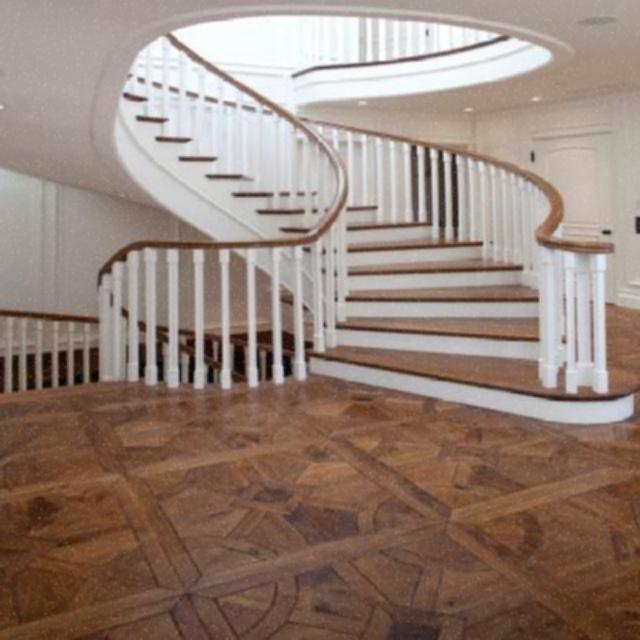stair: (63, 46, 634, 420)
